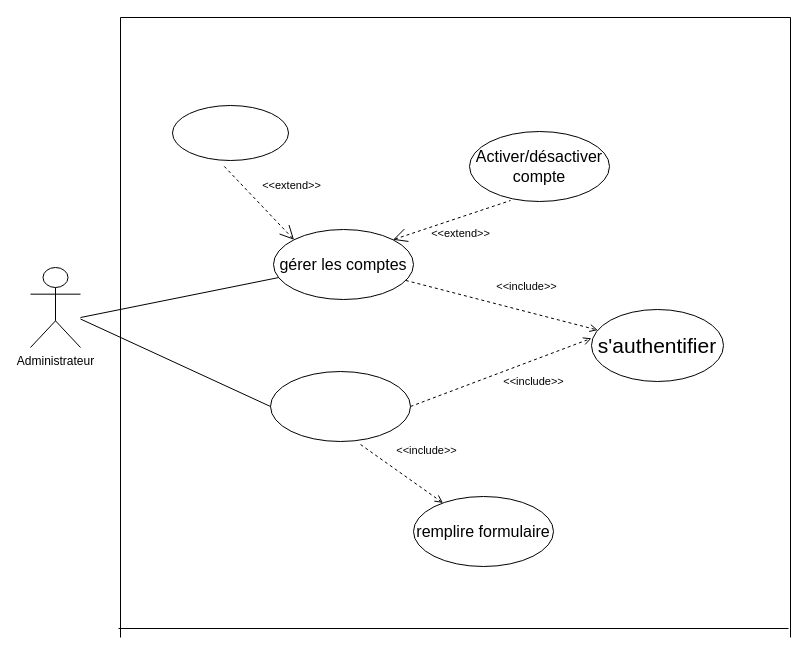
Image size: 809x656. Some labels were removed from this diagram. The centre of each missing label's shape, as x and y in pixels:
"Ajouter nouveau compte" goes at (340,406).
"recherche et filtrage" goes at (230,132).
